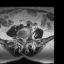CCS_normal: (23, 35, 25, 44)
LFS_normal: (27, 34, 29, 41)
LLS_normal: (25, 35, 27, 42)
RFS_normal: (19, 34, 21, 40)
RLS_normal: (21, 35, 23, 43)
